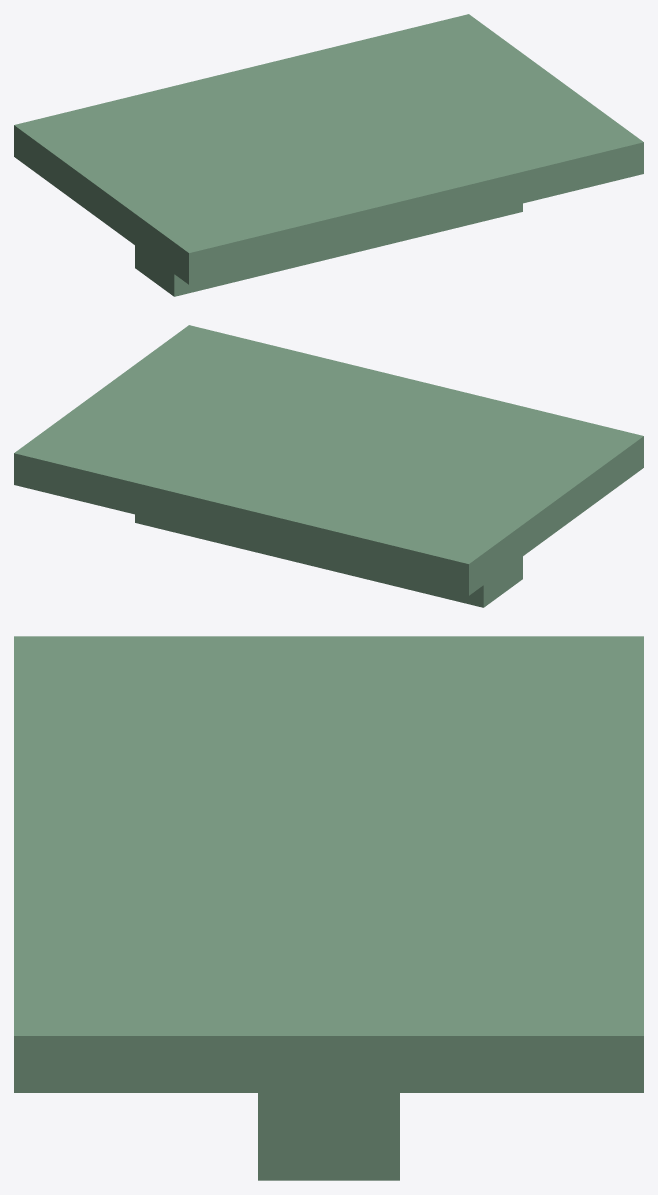
File: sink-void.glb
3 views of the same model, one above another, from view 1: azimuth 30°, elevation 25°; view 2: azimuth 150°, elevation 25°; view 3: azimuth 270°, elevation 25° (orthographic). The views are drawn at different scales.
Visible parts, largest first — view 1: Panel, Panel.002, Panel.004; view 2: Panel, Panel.001, Panel.002; view 3: Panel, Panel.002, Panel.001.
Boxes of the visible parts, box(x1,y1,x2,y2) form: Panel: box(14, 14, 643, 296); Panel.002: box(46, 31, 595, 246); Panel.004: box(137, 252, 174, 296); Panel: box(14, 325, 643, 607); Panel.001: box(135, 440, 503, 607); Panel.002: box(80, 344, 609, 560); Panel: box(14, 636, 643, 1180); Panel.002: box(14, 636, 643, 1092); Panel.001: box(329, 861, 399, 1180).
Size of the model in its own units: 6 by 1.34 by 4.
